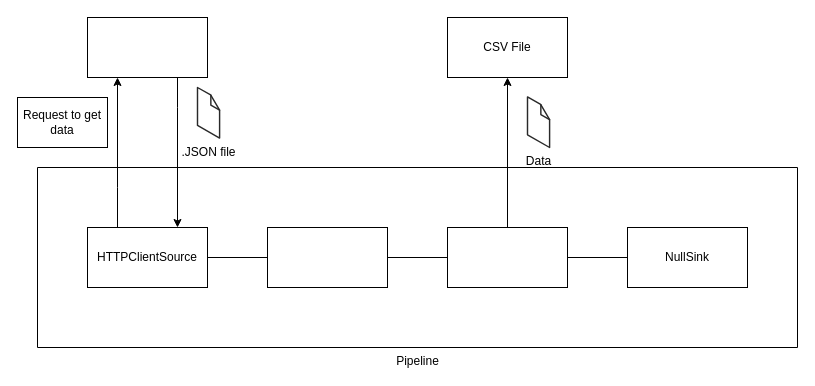
Some shapes in this 815 by 386 pixel diagram are drawn without their labels. The centre of each missing label's shape, as x and y in pixels:
"AddRarityPriceCoef" goes at [327,257].
"Fortnite Current Store API" goes at [147,47].
"JSONtoCSV" goes at [507,257].
